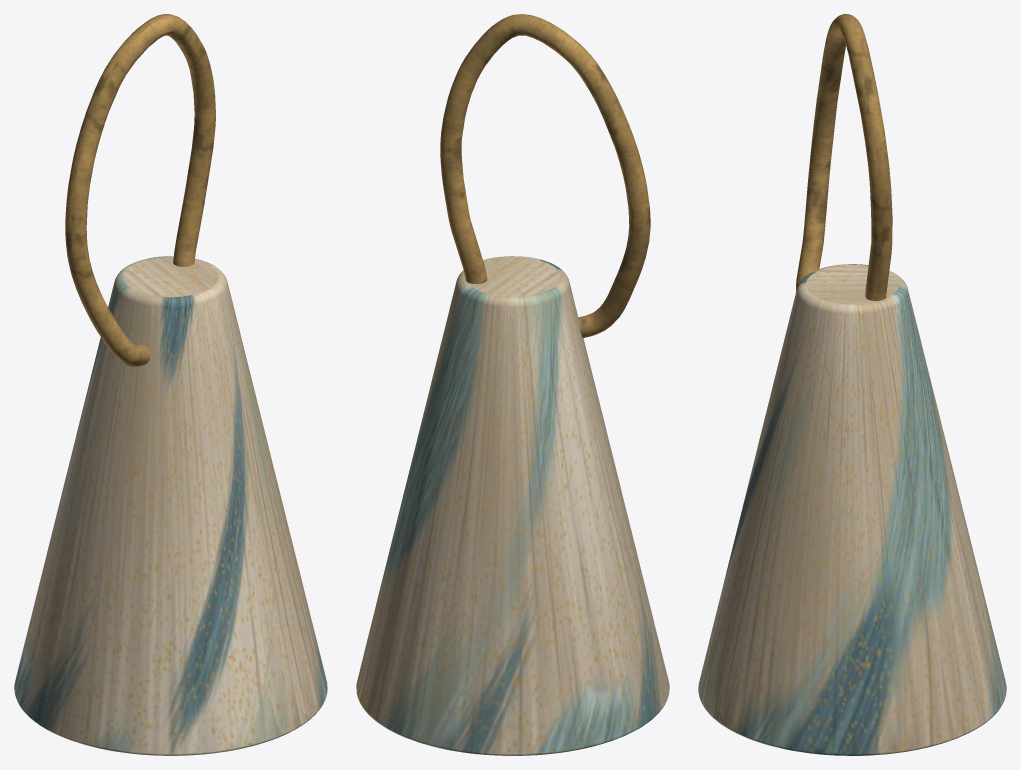
The model's file is king-white.glb.
The picture shows the model from 3 angles, left to right: view 1: azimuth 30°, elevation 25°; view 2: azimuth 150°, elevation 25°; view 3: azimuth 270°, elevation 25°; orthographic projection.
Visible parts, largest first — view 1: Telo, Smycka; view 2: Telo, Smycka; view 3: Telo, Smycka.
Boxes of the visible parts, <box> form: Telo: <box>14,256,327,755</box>; Smycka: <box>65,14,215,366</box>; Telo: <box>356,256,669,755</box>; Smycka: <box>440,14,650,337</box>; Telo: <box>698,264,1006,755</box>; Smycka: <box>796,14,892,300</box>.
Bounding box in the file's own units: 0.6367 × 1.52 × 0.6367.
Materials: 2 (2 with a texture image).
